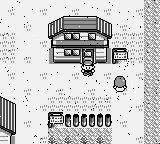leer: (49, 111, 64, 128), (112, 48, 127, 64)
main: (81, 61, 95, 76)
no-caminable: (48, 16, 112, 64), (64, 113, 112, 127), (1, 96, 15, 143)
npc: (113, 76, 127, 93)
puerta: (83, 49, 93, 64)
